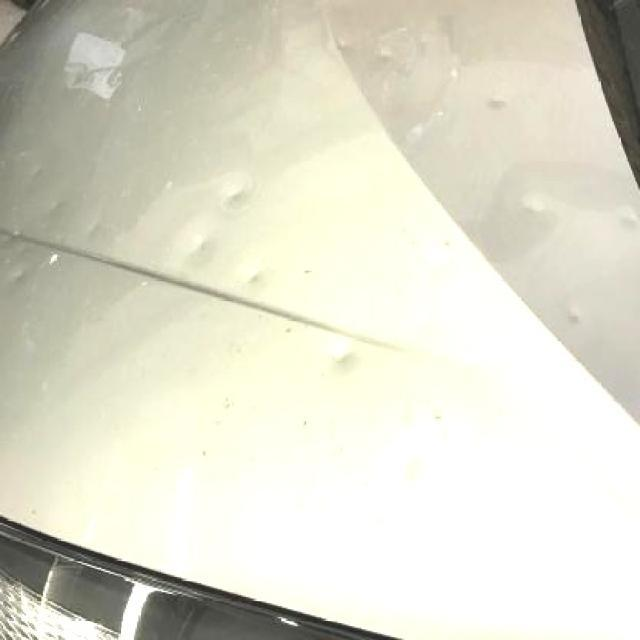dent: (223, 178, 252, 211), (332, 346, 361, 375), (521, 193, 546, 218), (9, 264, 31, 286), (189, 237, 209, 260), (486, 96, 508, 115), (619, 215, 640, 234), (246, 272, 265, 288), (86, 218, 102, 237), (563, 309, 580, 326), (49, 201, 65, 214), (35, 167, 49, 178)
